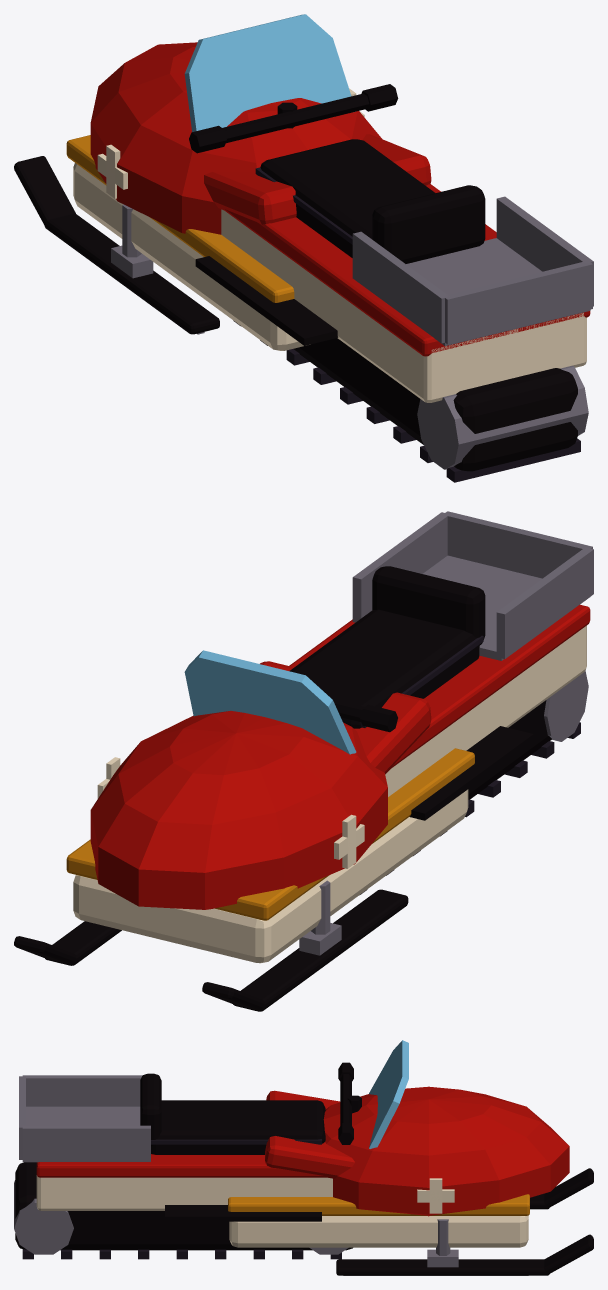
The model's file is rs_sled.glb.
The picture shows the model from 3 angles, top to bottom: view 1: azimuth 30°, elevation 25°; view 2: azimuth 150°, elevation 25°; view 3: azimuth 270°, elevation 25°; orthographic projection. The views are drawn at different scales.
Visible parts, largest first — view 1: sled_body, sled_ski_L; view 2: sled_body, sled_ski_L, sled_ski_R; view 3: sled_body, sled_ski_R, sled_ski_L.
Boxes of the visible parts, x1,y1,x2,y2 form: sled_body: (66, 14, 593, 482); sled_ski_L: (14, 156, 219, 334); sled_body: (66, 511, 593, 963); sled_ski_L: (202, 889, 408, 1011); sled_ski_R: (14, 921, 121, 965); sled_body: (14, 1040, 569, 1259); sled_ski_R: (336, 1234, 593, 1275); sled_ski_L: (530, 1168, 593, 1209).
Size of the model in its own units: 1.41 by 1.42 by 4.07.
